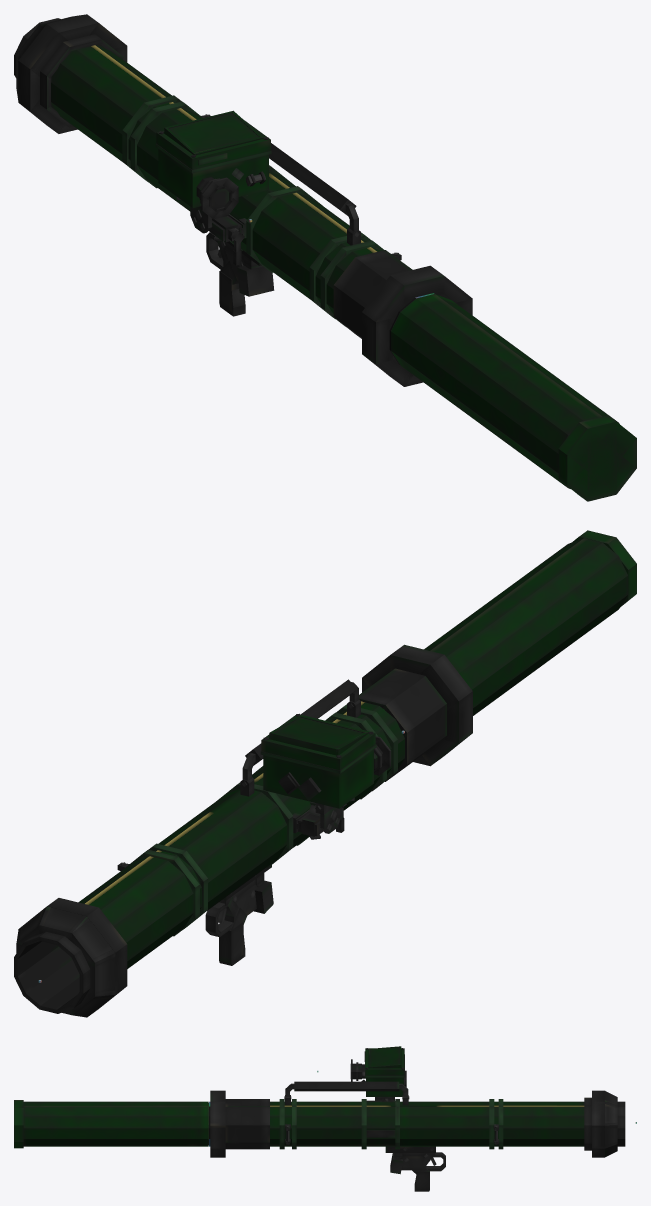
3 renders of one model, top to bottom at view 1: azimuth 30°, elevation 25°; view 2: azimuth 150°, elevation 25°; view 3: azimuth 270°, elevation 25°, orthographic. The views are drawn at different scales.
Parts seen in each view (by area): view 1: bone2, bone, tube, sight, pistolgrip, carryhandle; view 2: bone, tube, bone2, sight, pistolgrip, carryhandle; view 3: bone, bone2, tube, sight, pistolgrip, carryhandle.
Boxes of the visible parts, x1,y1,x2,y2 form: bone2: (391,294,636,501); bone: (14,18,450,364); tube: (16,14,472,386); sight: (155,110,271,265); pistolgrip: (206,232,274,316); carryhandle: (269,143,360,245); bone: (14,701,404,1013); tube: (16,644,472,1017); bone2: (424,530,636,715); sight: (260,713,391,839); pistolgrip: (205,865,273,965); carryhandle: (240,679,360,796); bone: (209,1101,625,1146); bone2: (14,1100,208,1148); tube: (210,1090,617,1157); sight: (350,1046,406,1101); pistolgrip: (385,1146,445,1191); carryhandle: (284,1081,409,1105).
Bounding box in the file's own units: 89.49 × 130 × 612.
1 material, 1 textured.
